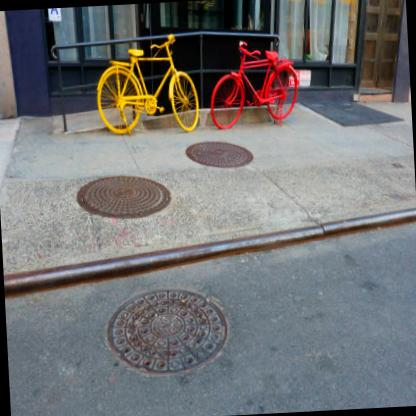manholes: (90, 266, 245, 416), (61, 148, 182, 238), (179, 126, 263, 193)
